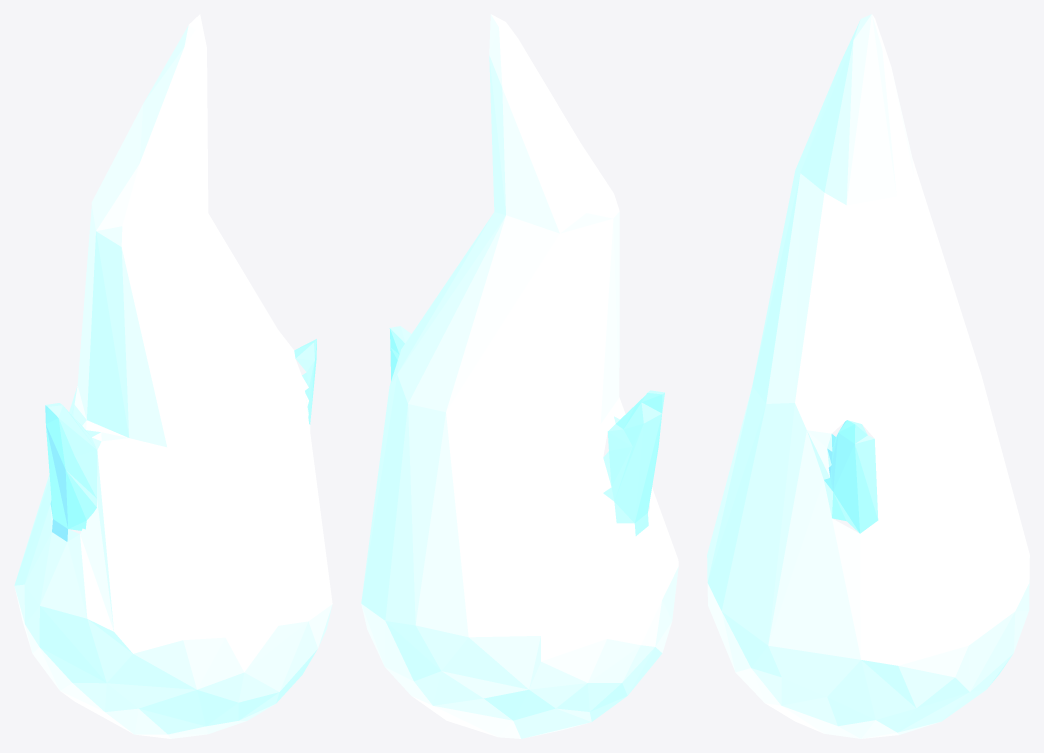
The model's file is spirit_wick_flame.glb.
3 renders of one model, left to right at view 1: azimuth 30°, elevation 25°; view 2: azimuth 150°, elevation 25°; view 3: azimuth 270°, elevation 25°, orthographic. The views are drawn at different scales.
Visible parts, largest first — view 1: spirit_wick_flame; view 2: spirit_wick_flame; view 3: spirit_wick_flame.
Part boxes in pixels (x1,y1,x2,y2): spirit_wick_flame: (14, 14, 332, 738); spirit_wick_flame: (361, 14, 678, 738); spirit_wick_flame: (707, 14, 1029, 738).
Size of the model in its own units: 0.3367 by 0.8184 by 0.3314.
